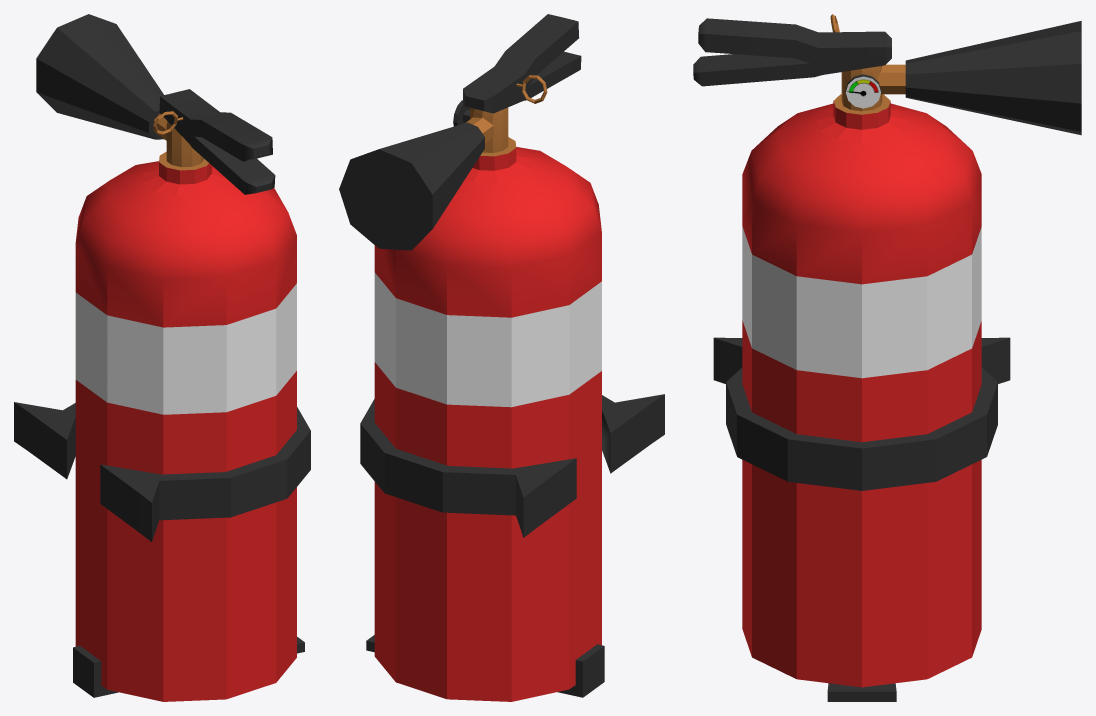
File: Fire Extinguisher.glb
3 renders of one model, left to right at view 1: azimuth 30°, elevation 25°; view 2: azimuth 150°, elevation 25°; view 3: azimuth 270°, elevation 25°, orthographic. The views are drawn at different scales.
Visible parts, largest first — view 1: Extinguisher_Mesh.003, Top_Bolt_Mesh.001, Bottom_bolt_Mesh.002; view 2: Extinguisher_Mesh.003, Top_Bolt_Mesh.001, Bottom_bolt_Mesh.002; view 3: Extinguisher_Mesh.003, Top_Bolt_Mesh.001, Bottom_bolt_Mesh.002.
Part boxes in pixels (x1,y1,x2,y2): Extinguisher_Mesh.003: (36, 14, 296, 701); Top_Bolt_Mesh.001: (14, 402, 310, 541); Bottom_bolt_Mesh.002: (73, 637, 304, 697); Extinguisher_Mesh.003: (339, 14, 601, 701); Top_Bolt_Mesh.001: (360, 394, 664, 537); Bottom_bolt_Mesh.002: (366, 635, 604, 697); Extinguisher_Mesh.003: (693, 14, 1081, 687); Top_Bolt_Mesh.001: (713, 337, 1010, 490); Bottom_bolt_Mesh.002: (827, 683, 896, 701).
Bounding box in the file's own units: 2.17 × 5.67 × 3.21.
1 material, 1 textured.
